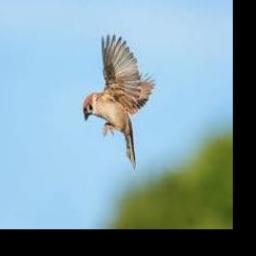Sparrow: (82, 35, 155, 169)
